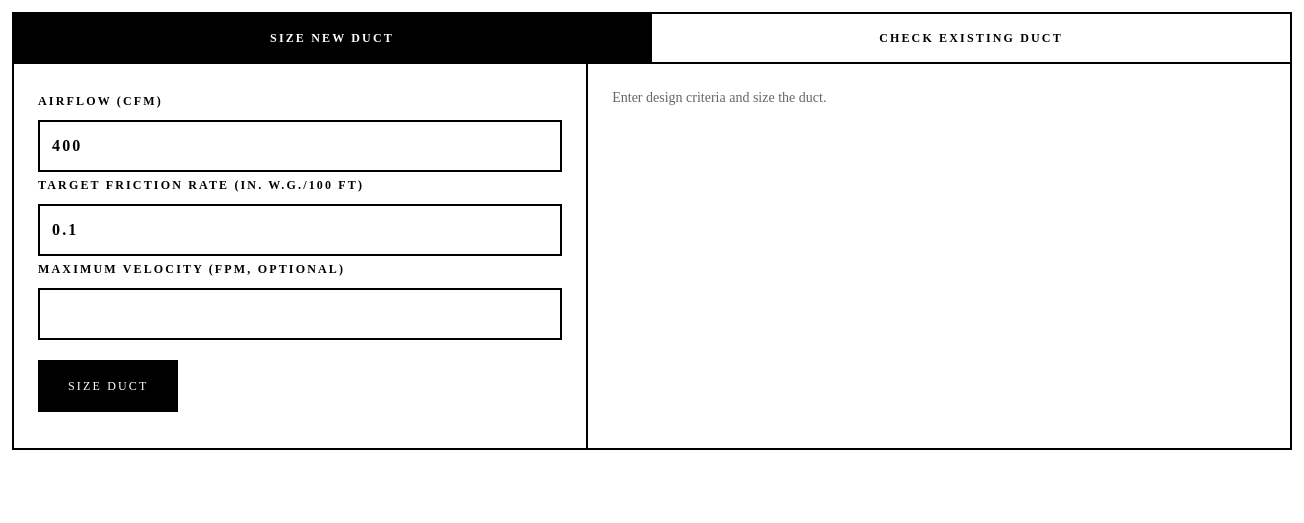
Test: Ductulator › reports invalid field input accessibly
This screenshot has width=1304, height=523.
Replace the text in the number field labelled "Airflow (CFM)" with "0" at x=300, y=146, box left=38, top=120, right=562, bottom=172
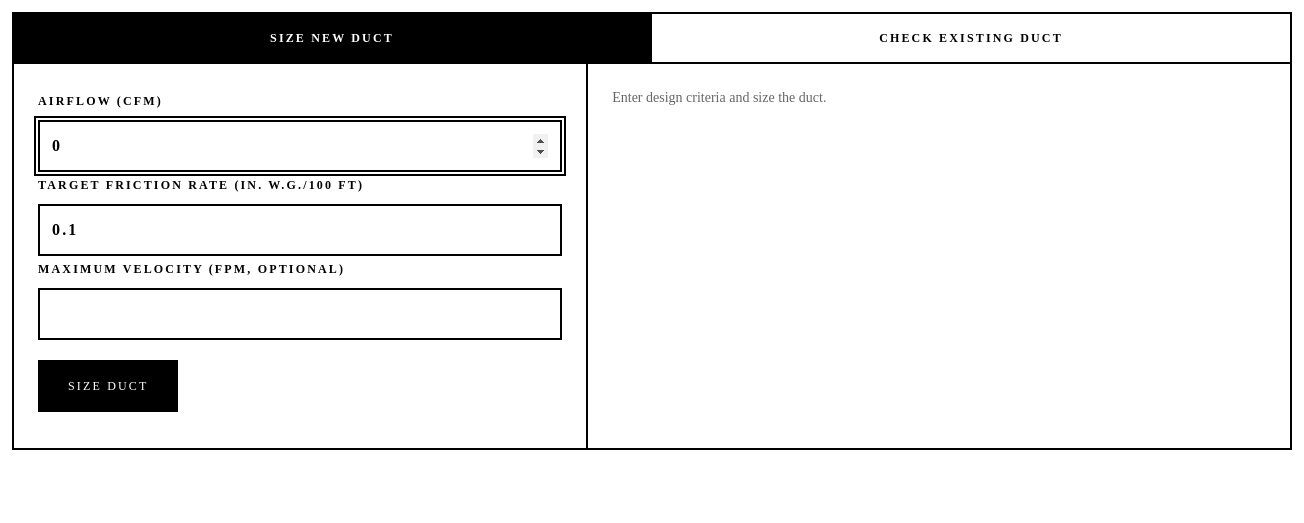
Click the button "Size duct" at x=108, y=386, box left=38, top=360, right=178, bottom=412
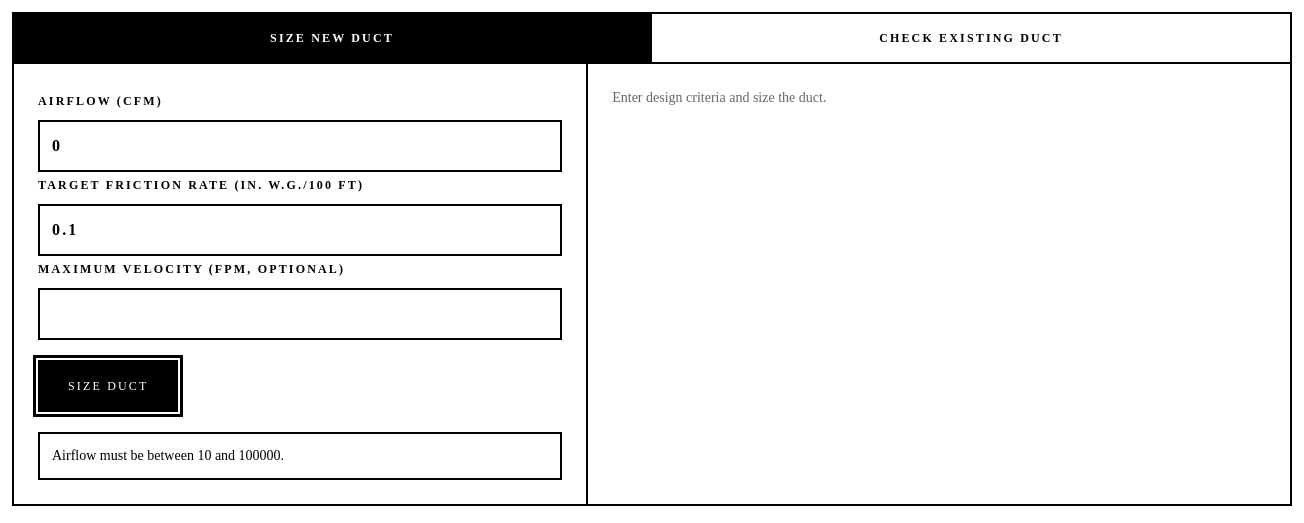
Expected: the message shows "Airflow", left=52, top=448, right=284, bottom=463
